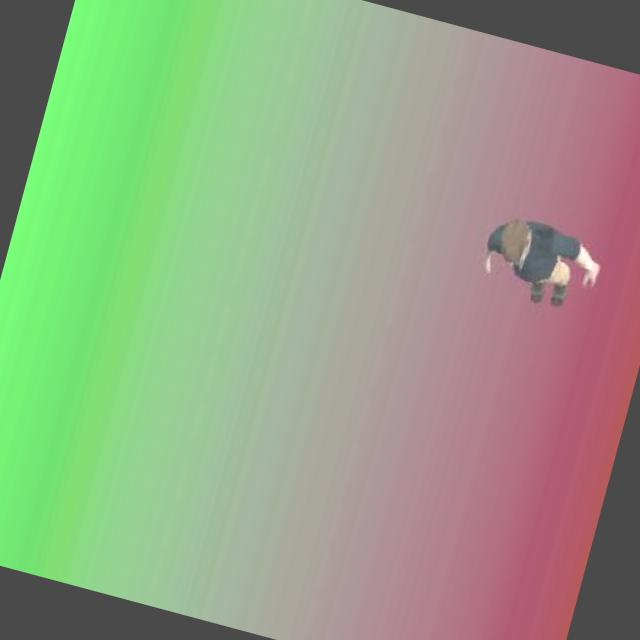Person: (470, 207, 610, 324)
